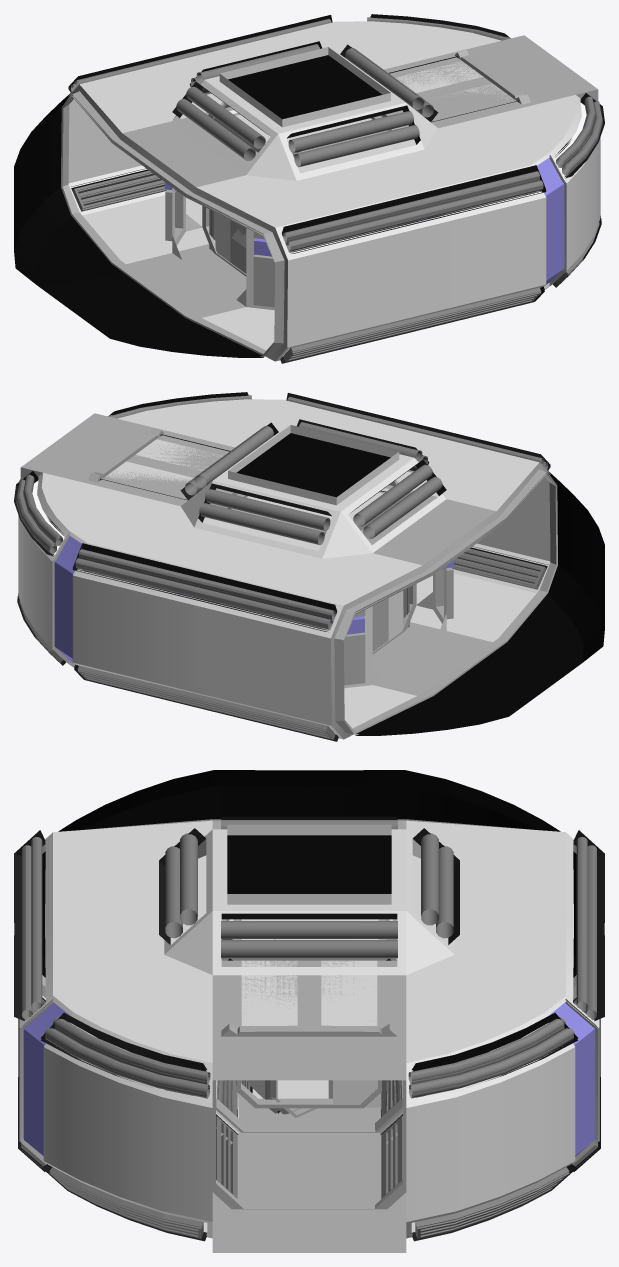
Rendered from 90°Corridor.fbx.
3 views of the same model, one above another, from view 1: azimuth 30°, elevation 25°; view 2: azimuth 150°, elevation 25°; view 3: azimuth 270°, elevation 25° (orthographic). The views are drawn at different scales.
Parts seen in each view (by area): view 1: SalledeControle, SalledeControle.001, ModuleCentral, CouloirBase.001, 90°Corridor, CouloirBaseExternal; view 2: SalledeControle, SalledeControle.001, ModuleCentral, CouloirBase.001, 90°Corridor, CouloirBaseExternal; view 3: SalledeControle, SalledeControle.001, ModuleCentral, CouloirBase.001, Chambre, 90°Corridor, CouloirBase, 45°Corridor.
Boxes of the visible parts, left/top/right/bottom form: SalledeControle: left=14, top=14, right=604, bottom=363; SalledeControle.001: left=14, top=16, right=604, bottom=361; ModuleCentral: left=165, top=41, right=444, bottom=310; CouloirBase.001: left=388, top=50, right=535, bottom=222; 90°Corridor: left=209, top=102, right=390, bottom=273; CouloirBaseExternal: left=229, top=110, right=396, bottom=250; SalledeControle: left=14, top=392, right=604, bottom=741; SalledeControle.001: left=14, top=394, right=604, bottom=739; ModuleCentral: left=174, top=419, right=453, bottom=688; CouloirBase.001: left=83, top=428, right=230, bottom=600; 90°Corridor: left=228, top=480, right=409, bottom=651; CouloirBaseExternal: left=222, top=488, right=389, bottom=628; SalledeControle: left=14, top=770, right=604, bottom=1252; SalledeControle.001: left=14, top=772, right=604, bottom=1249; ModuleCentral: left=159, top=816, right=459, bottom=1147; CouloirBase.001: left=212, top=958, right=406, bottom=1209; Chambre: left=236, top=1080, right=381, bottom=1108; 90°Corridor: left=216, top=939, right=402, bottom=1132; CouloirBase: left=216, top=1080, right=402, bottom=1127; 45°Corridor: left=247, top=939, right=316, bottom=1117.
Size of the model in its own units: 1593 by 649 by 1222.
